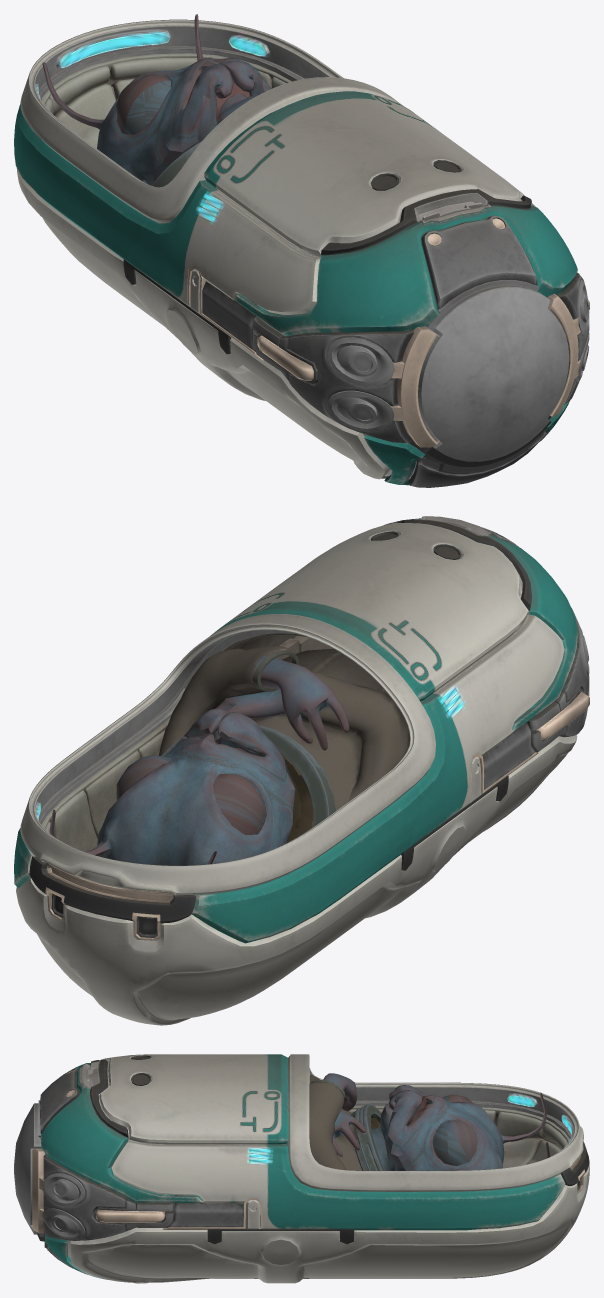
Rendered from pod.glb.
The picture shows the model from 3 angles, top to bottom: view 1: azimuth 30°, elevation 25°; view 2: azimuth 150°, elevation 25°; view 3: azimuth 270°, elevation 25°; orthographic projection. The views are drawn at different scales.
Visible parts, largest first — view 1: Pod_GEO, head_opened_eyes_01_GEO, Eyelid_RB, Eyelid_RT; view 2: Pod_GEO, head_opened_eyes_01_GEO, Eyelid_RT, Eyelid_LT; view 3: Pod_GEO, head_opened_eyes_01_GEO, Eyelid_LT, Eyrlid_LB.
Part boxes in pixels (box(x1,y1,x2,y2)): Pod_GEO: box(14, 19, 589, 487); head_opened_eyes_01_GEO: box(42, 14, 271, 185); Eyelid_RB: box(122, 80, 170, 134); Eyelid_RT: box(116, 73, 169, 132); Pod_GEO: box(14, 516, 589, 1025); head_opened_eyes_01_GEO: box(49, 708, 295, 865); Eyelid_RT: box(213, 774, 264, 834); Eyelid_LT: box(116, 755, 169, 800); Pod_GEO: box(14, 1054, 589, 1283); head_opened_eyes_01_GEO: box(371, 1085, 549, 1170); Eyelid_LT: box(447, 1119, 477, 1166); Eyrlid_LB: box(432, 1119, 453, 1165).
Size of the model in its own units: 4.63 by 4.56 by 11.41.
2 materials, 2 textured.
